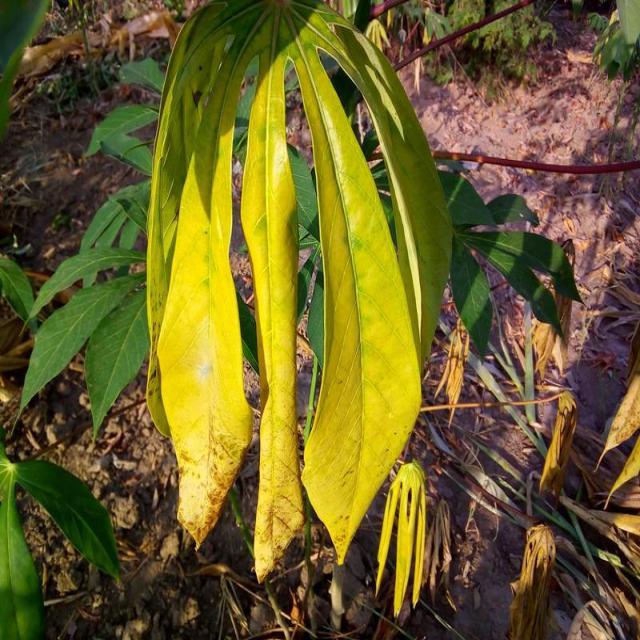cassava leaf: (144, 0, 453, 582)
